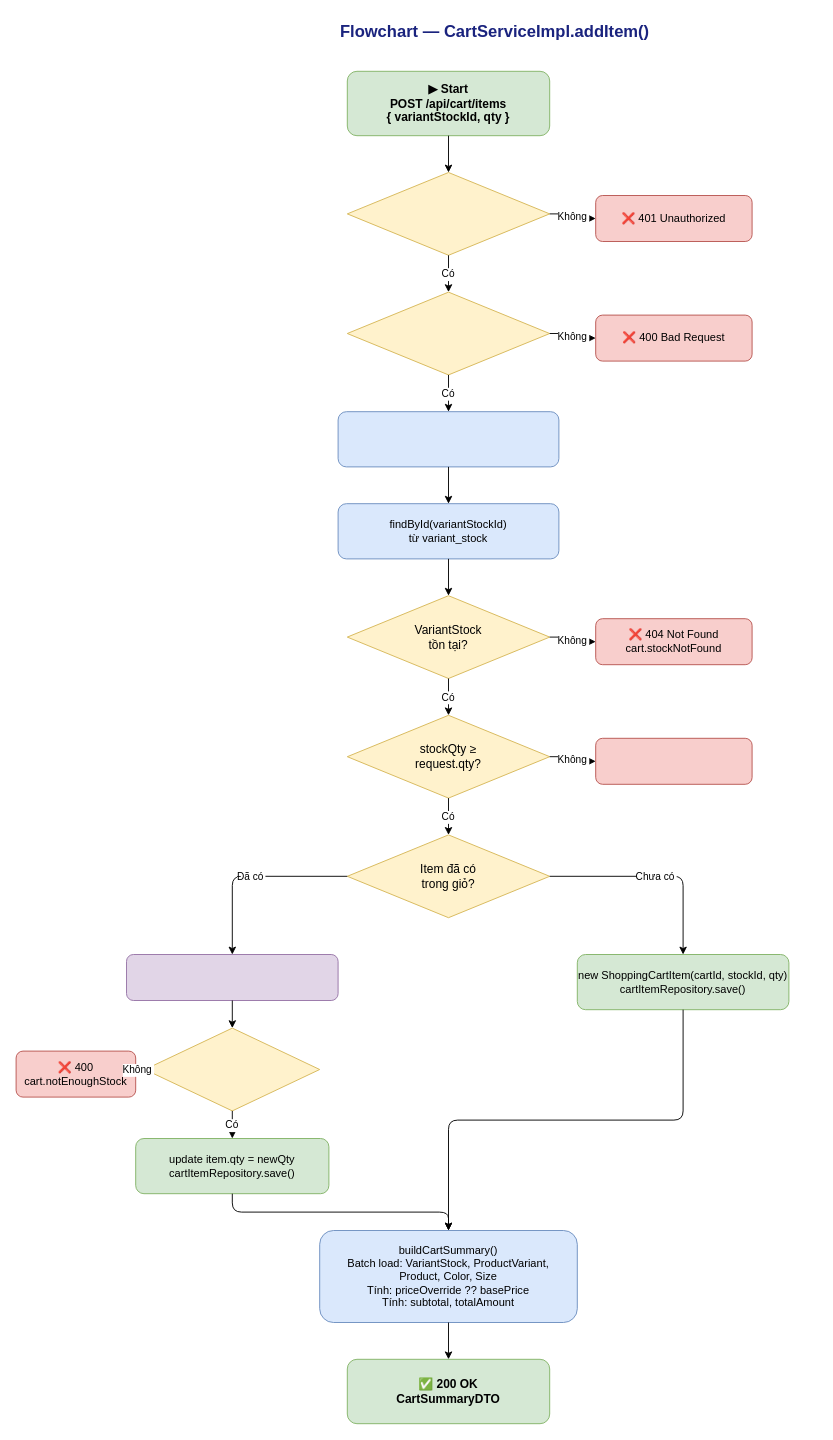
The diagram is 833 pixels wide and 1440 high, and some of its shapes have lost their labels. The centre of each missing label's shape, as x and y in pixels:
"@Valid variantStockId ≠ null qty ≥ 1?" goes at [448,333].
"getOrCreateCart(username) → Lấy hoặc tạo mới ShoppingCart" goes at [448,439].
"JWT Token hợp lệ?" goes at [448,213].
"newQty = existing.qty + request.qty" goes at [232,977].
"newQty ≤ stockQty?" goes at [232,1069].
"❌ 400 Bad Request cart.notEnoughStock" goes at [673,760].
